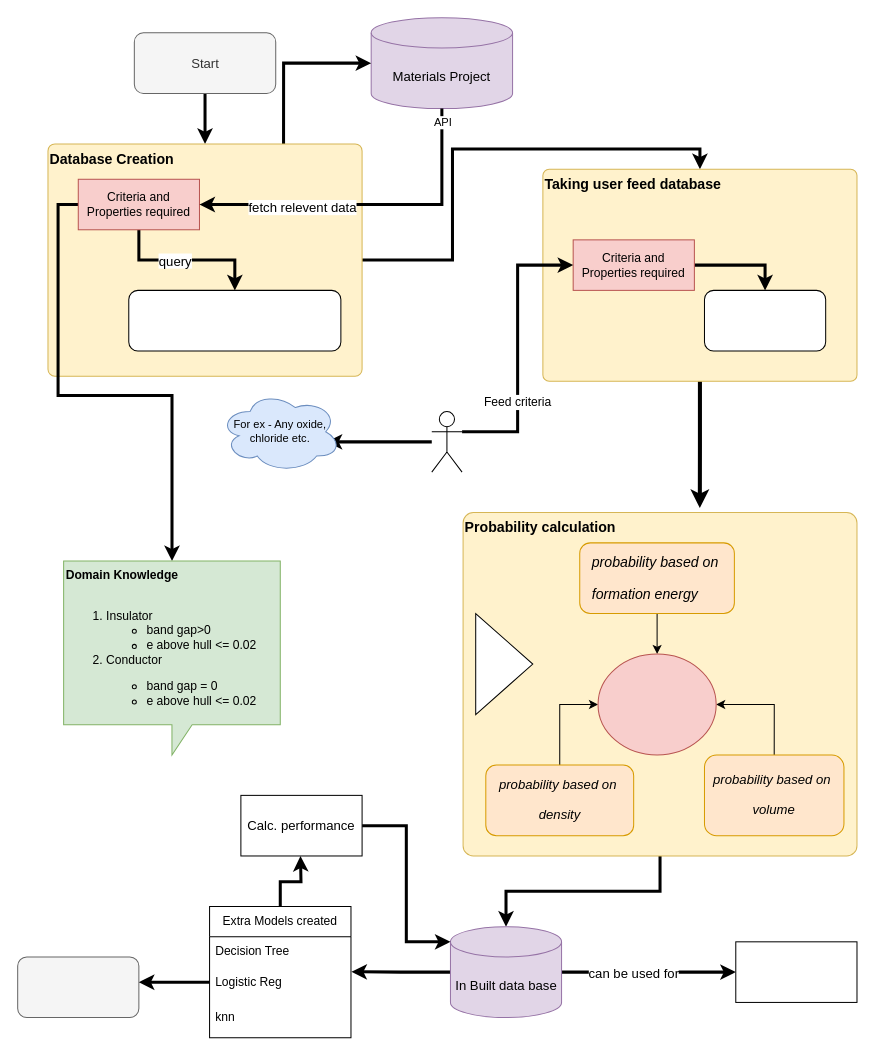
The diagram is 875 pixels wide and 1055 high, and some of its shapes have lost their labels. Each missing label, with the centre of its shape:
"cleaning of user given data" belongs at pixel 764 320.
"Creation of a databases with the properties of the insulators and conductors." belongs at pixel 234 320.
"EDA if any" belongs at pixel 796 971.
"End" belongs at pixel 78 987.
"Naive Bayes" belongs at pixel 504 664.
"odds for conductor or insulator" belongs at pixel 656 704.
"User" belongs at pixel 446 441.
